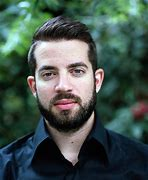person: (25, 17, 105, 128)
